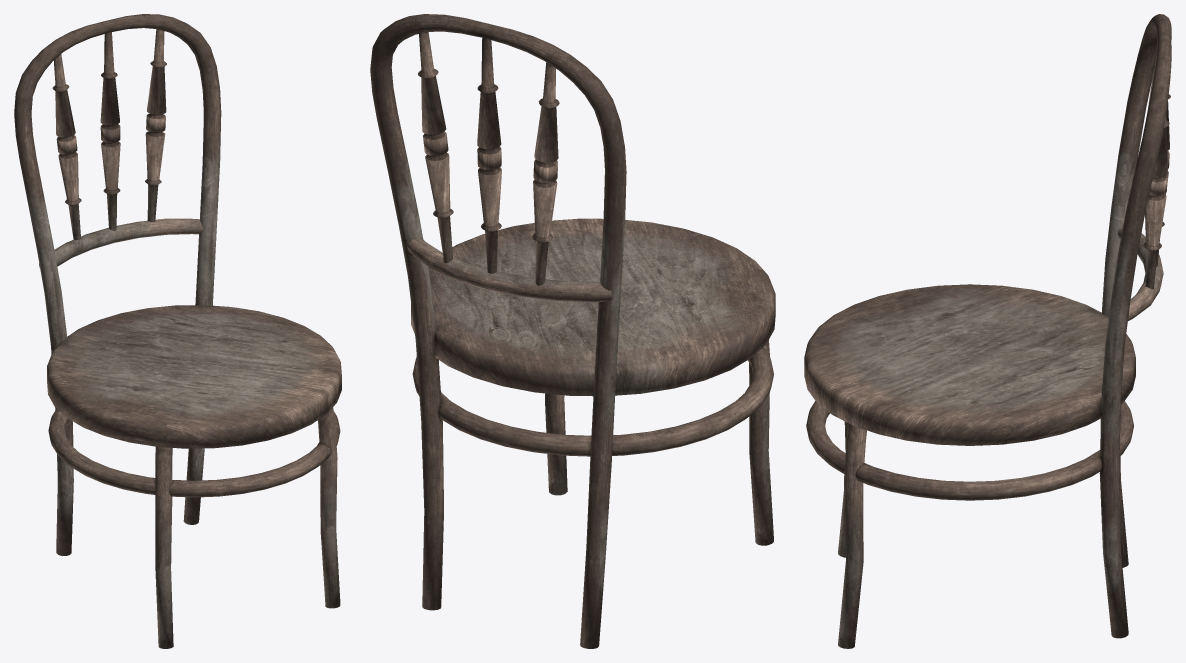
File: chair.glb
3 renders of one model, left to right at view 1: azimuth 30°, elevation 25°; view 2: azimuth 150°, elevation 25°; view 3: azimuth 270°, elevation 25°, orthographic. The views are drawn at different scales.
Parts seen in each view (by area): view 1: Cylinder.006, BezierCurve, Torus, Cylinder.008, Cylinder.007, Torus.001; view 2: Cylinder.006, BezierCurve, Cylinder.008, Torus, Torus.001, Cylinder.007; view 3: Cylinder.006, BezierCurve, Torus, Cylinder.008, Torus.001.
Boxes of the visible parts, left/top/right/bottom form: Cylinder.006: left=47, top=305, right=341, bottom=448; BezierCurve: left=14, top=14, right=340, bottom=648; Torus: left=48, top=409, right=340, bottom=497; Cylinder.008: left=52, top=29, right=166, bottom=239; Cylinder.007: left=100, top=32, right=120, bottom=230; Torus.001: left=39, top=218, right=203, bottom=267; Cylinder.006: left=411, top=218, right=775, bottom=396; BezierCurve: left=370, top=14, right=773, bottom=648; Cylinder.008: left=418, top=32, right=559, bottom=285; Torus: left=412, top=348, right=773, bottom=456; Torus.001: left=406, top=237, right=611, bottom=302; Cylinder.007: left=477, top=37, right=501, bottom=273; Cylinder.006: left=804, top=284, right=1135, bottom=445; BezierCurve: left=838, top=14, right=1171, bottom=648; Torus: left=806, top=401, right=1133, bottom=500; Cylinder.008: left=1143, top=38, right=1169, bottom=288; Torus.001: left=1117, top=226, right=1163, bottom=320.
Size of the model in its own units: 0.876 by 1.64 by 0.9702.
Materials: 1 (1 with a texture image).
